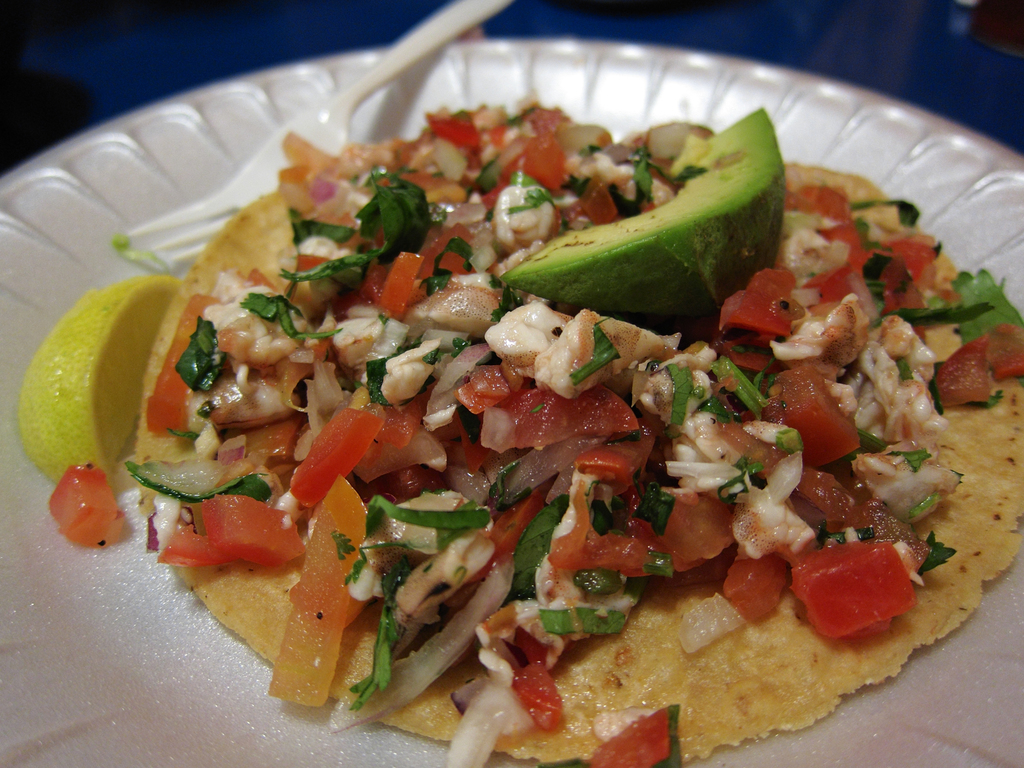taco: (123, 93, 1023, 767)
